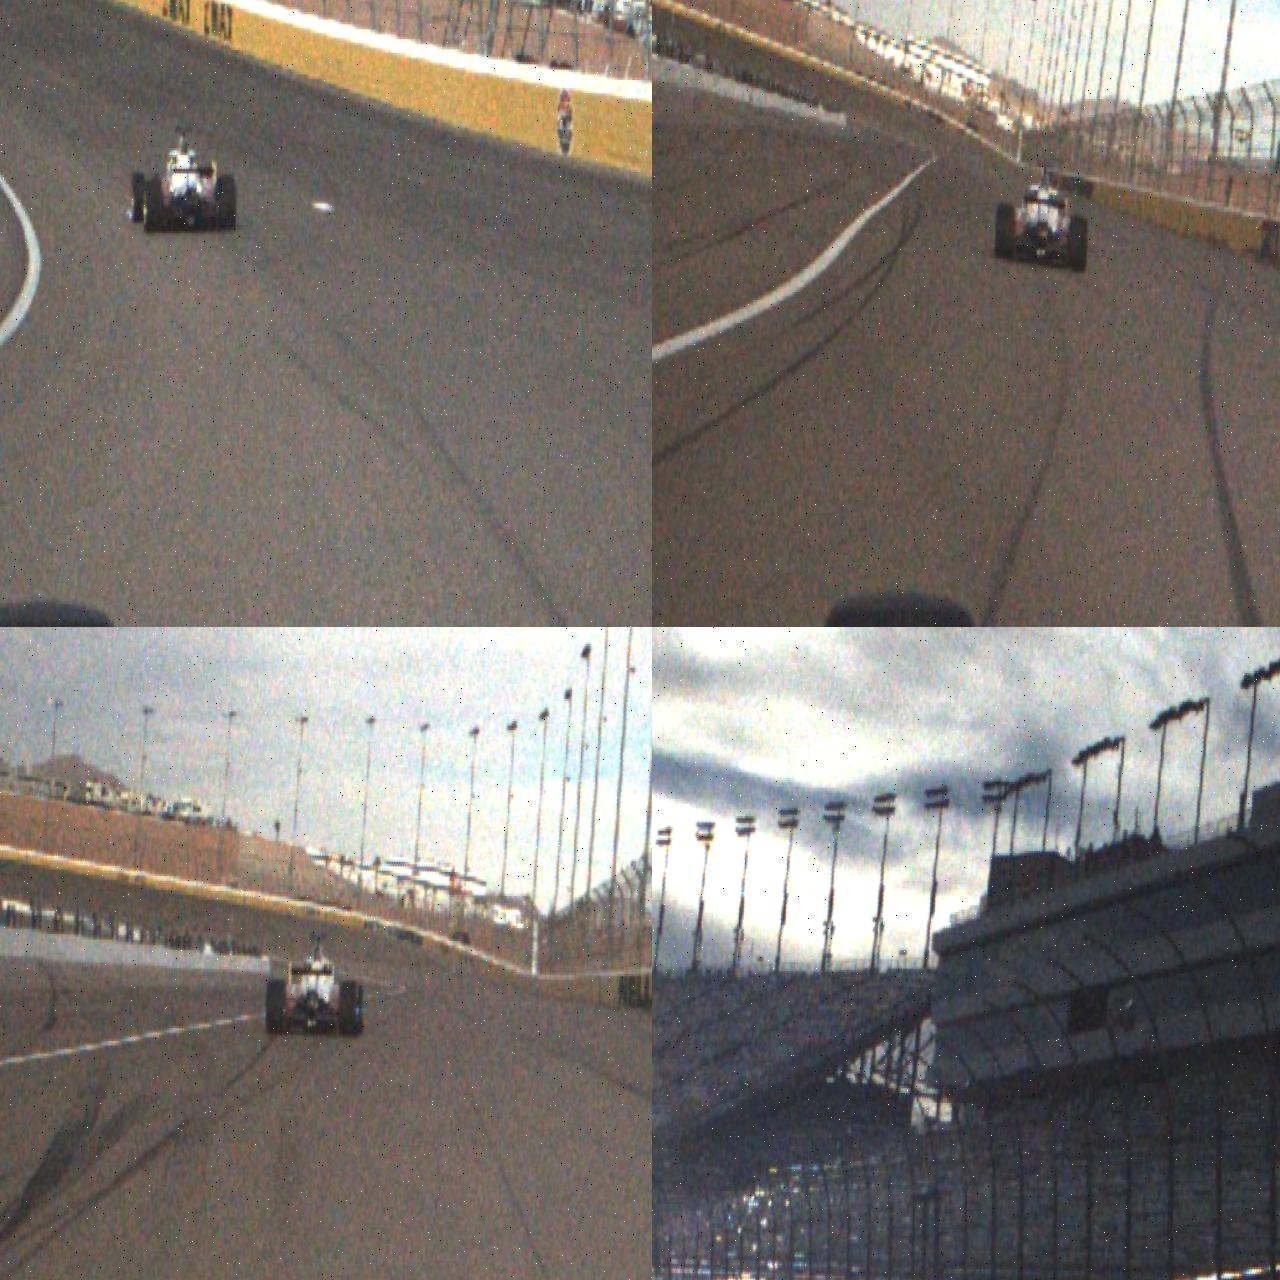AV: (127, 125, 238, 234), (995, 159, 1089, 273), (266, 932, 366, 1037)
Wheel: (995, 203, 1016, 261), (217, 176, 238, 231), (340, 980, 360, 1036), (266, 980, 286, 1035), (144, 178, 164, 232), (1070, 216, 1088, 272), (131, 172, 147, 223)
